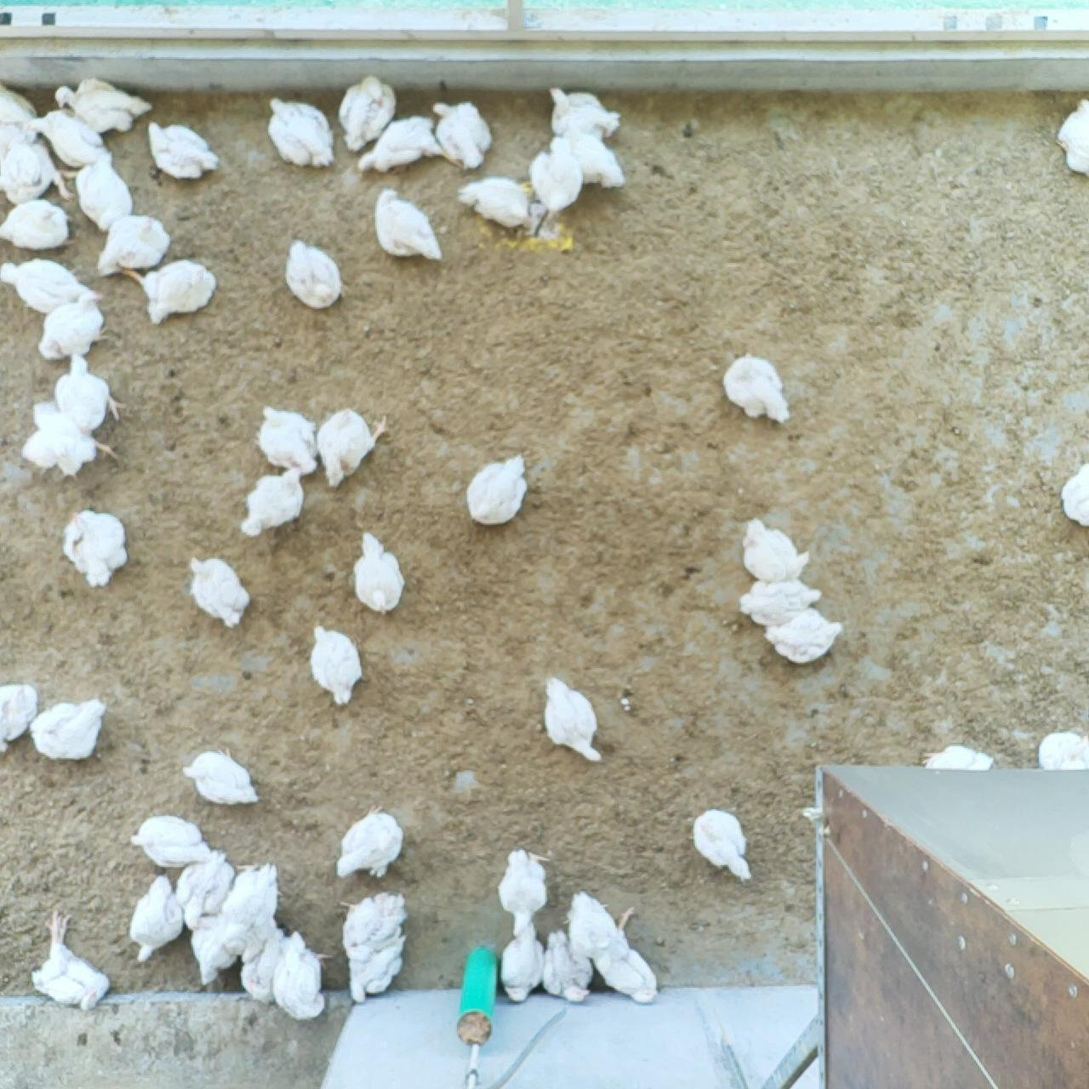chicken: (27, 911, 114, 1015), (22, 399, 121, 479), (120, 255, 220, 328), (215, 855, 284, 958), (313, 403, 391, 493), (48, 349, 131, 433), (33, 284, 116, 364), (714, 346, 793, 430), (53, 72, 155, 137), (356, 114, 465, 174), (187, 552, 263, 635), (237, 462, 314, 542), (372, 186, 445, 269), (125, 870, 186, 969), (22, 109, 112, 175), (170, 840, 236, 929), (332, 801, 407, 879), (60, 150, 133, 229), (61, 507, 131, 589), (734, 514, 812, 587), (687, 805, 759, 884), (0, 255, 93, 316), (141, 116, 224, 184), (30, 695, 111, 764), (265, 95, 341, 168), (0, 130, 73, 206), (537, 678, 603, 762), (306, 620, 368, 709), (93, 211, 174, 278), (333, 72, 399, 154), (339, 888, 410, 964), (344, 929, 406, 1016), (272, 930, 329, 1024), (351, 529, 411, 618), (497, 847, 556, 937), (463, 451, 528, 532), (760, 602, 843, 664), (184, 744, 260, 811), (735, 576, 824, 632), (237, 918, 292, 1008), (256, 401, 318, 480), (568, 888, 636, 960), (427, 97, 493, 171), (283, 235, 347, 311), (537, 927, 597, 1005), (558, 122, 626, 190), (127, 812, 211, 867), (589, 945, 663, 1005), (548, 86, 624, 144), (531, 135, 587, 213), (456, 175, 532, 231), (500, 916, 547, 1006), (0, 197, 73, 246), (192, 911, 233, 996), (0, 81, 43, 151), (918, 739, 997, 777), (0, 682, 43, 751), (1057, 92, 1089, 179), (1056, 458, 1089, 532), (1036, 729, 1089, 775)
